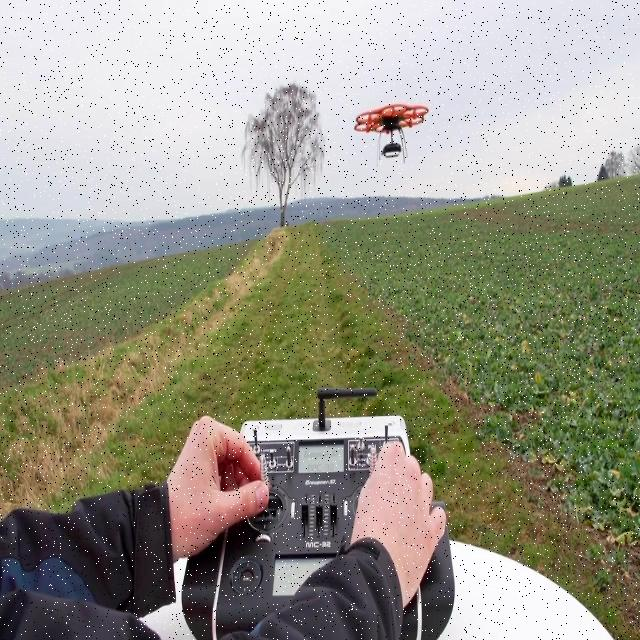UAV: (354, 103, 429, 167)
